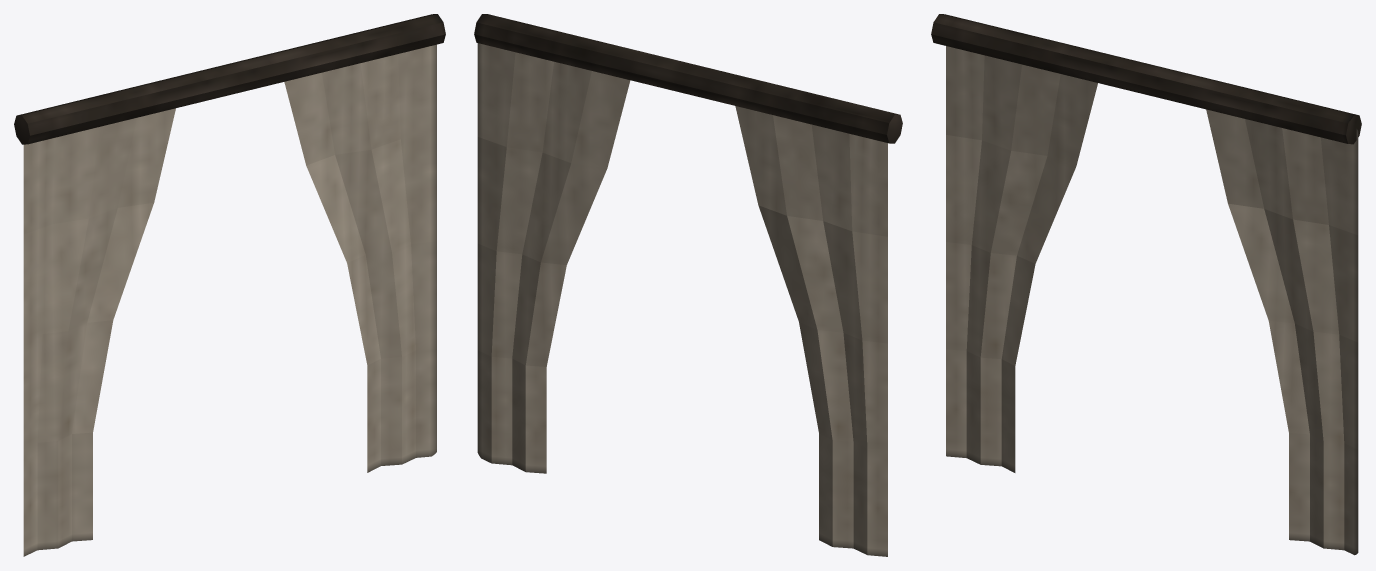
Rendered from SM_EC_House_Curtain_07.fbx.
3 renders of one model, left to right at view 1: azimuth 30°, elevation 25°; view 2: azimuth 150°, elevation 25°; view 3: azimuth 330°, elevation 25°, orthographic.
Parts seen in each view (by area): view 1: SM_EC_House_Curtain_07; view 2: SM_EC_House_Curtain_07; view 3: SM_EC_House_Curtain_07.
Boxes of the visible parts, <box> form: SM_EC_House_Curtain_07: <box>14,14,445,556</box>; SM_EC_House_Curtain_07: <box>474,14,902,556</box>; SM_EC_House_Curtain_07: <box>931,14,1361,555</box>.
Size of the model in its own units: 1.67 by 0.1112 by 1.7.
